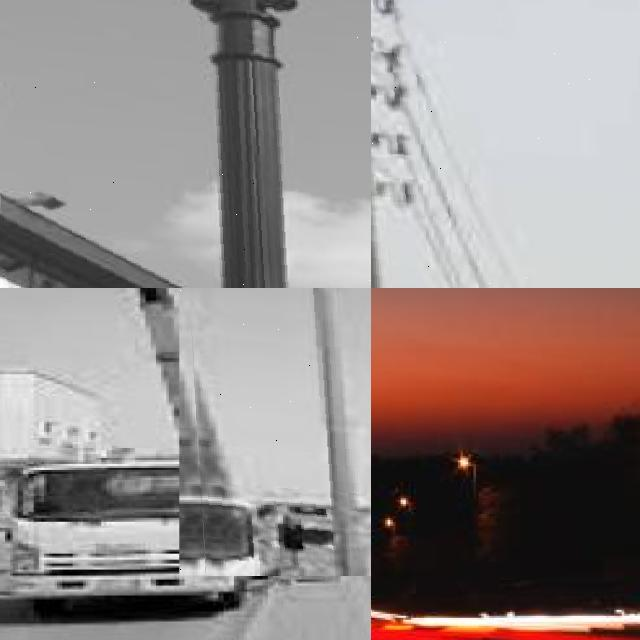street light: (0, 0, 371, 288), (371, 0, 637, 288), (179, 288, 371, 575), (458, 458, 475, 615), (401, 500, 412, 594), (385, 520, 395, 575)
